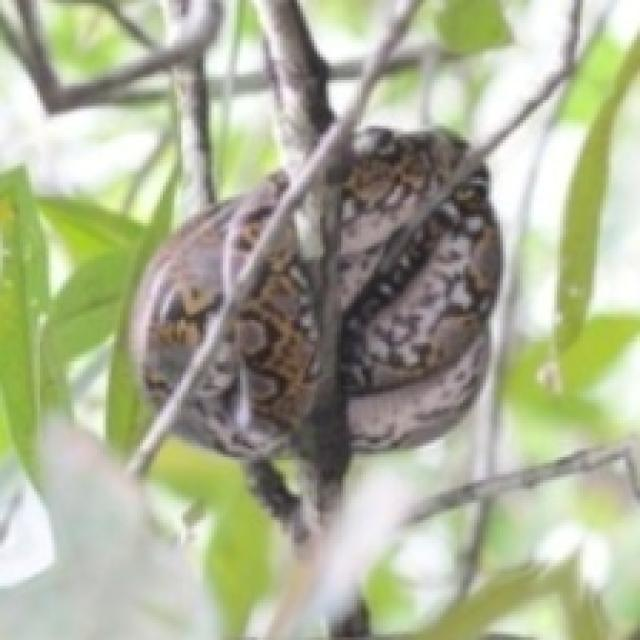reticulated python: (337, 129, 500, 449), (129, 171, 286, 403), (177, 223, 317, 460)
